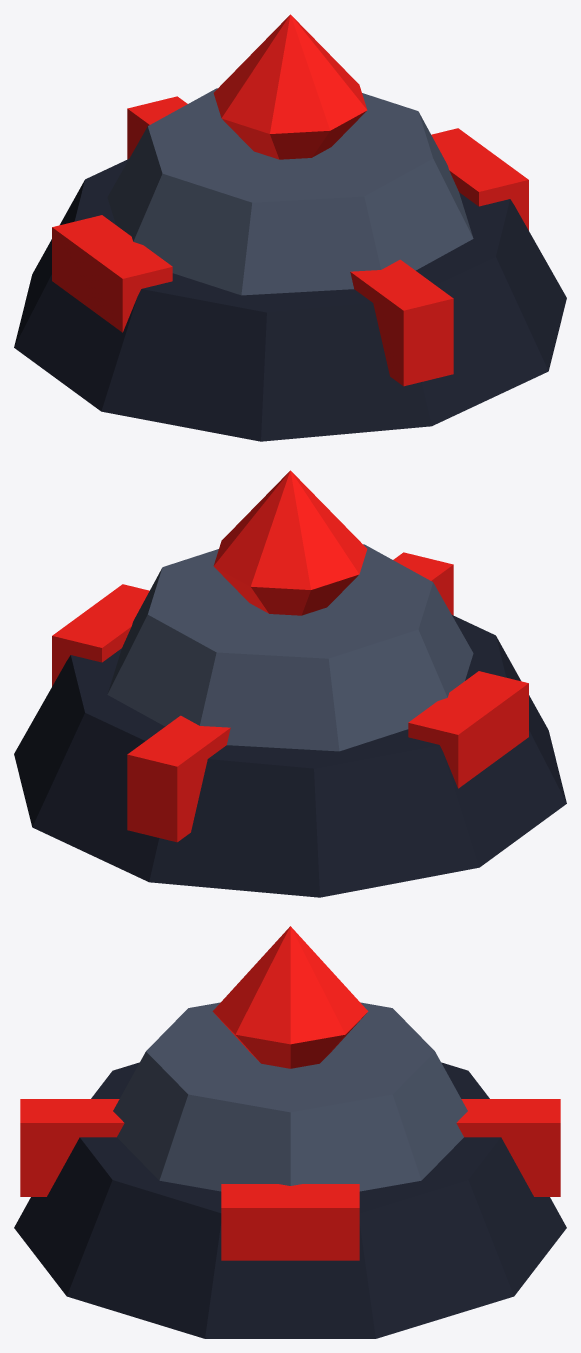
The model's file is laser_reactor.obj.
The picture shows the model from 3 angles, top to bottom: view 1: azimuth 30°, elevation 25°; view 2: azimuth 150°, elevation 25°; view 3: azimuth 270°, elevation 25°; orthographic projection. The views are drawn at different scales.
Visible parts, largest first — view 1: laser_reactor; view 2: laser_reactor; view 3: laser_reactor.
Boxes of the visible parts, x1=… form: laser_reactor: x1=14, y1=14, x2=566, y2=441; laser_reactor: x1=14, y1=470, x2=566, y2=897; laser_reactor: x1=14, y1=926, x2=566, y2=1338.
Bounding box in the file's own units: 4.18 × 2.65 × 4.4.
